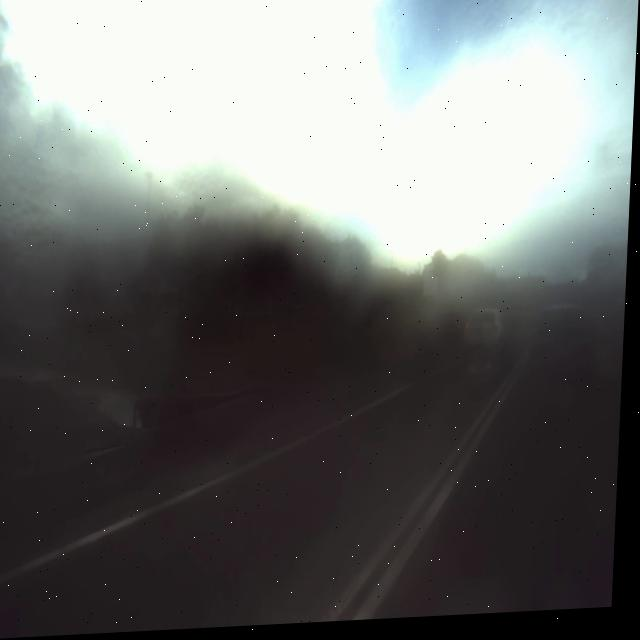car: (465, 299, 518, 365)
